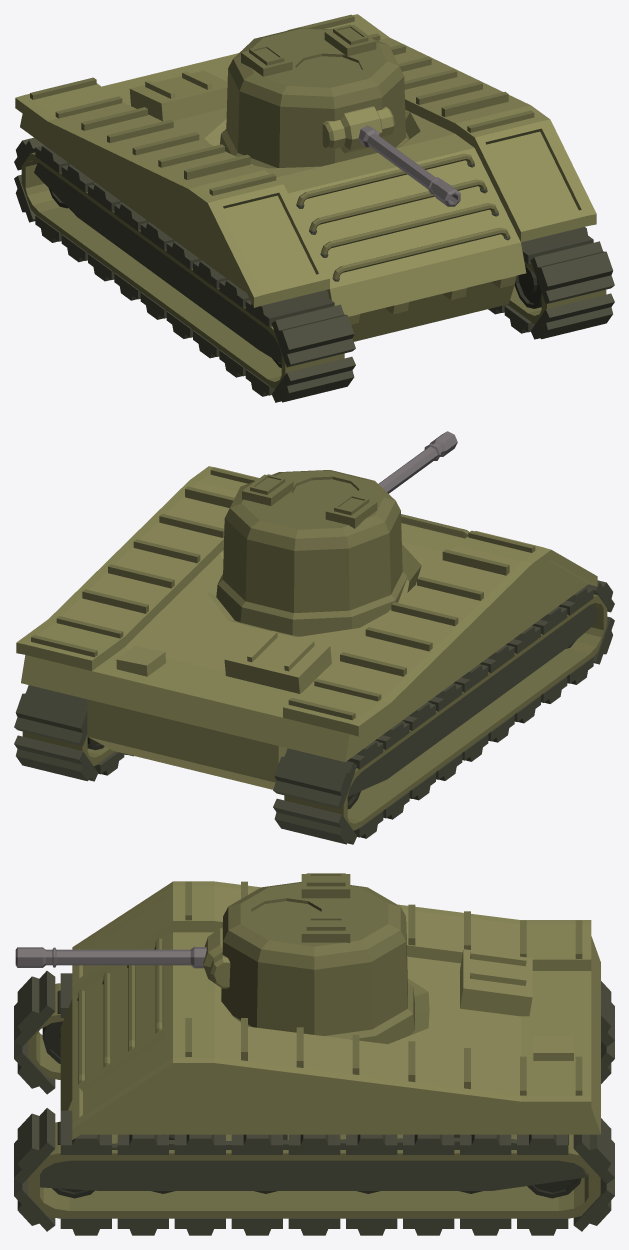
File: Tank_Toon.fbx
3 views of the same model, one above another, from view 1: azimuth 30°, elevation 25°; view 2: azimuth 150°, elevation 25°; view 3: azimuth 270°, elevation 25° (orthographic). The views are drawn at different scales.
Parts seen in each view (by area): view 1: Tank_body, Tank_Turret, TrackMesh.R, TrackMesh.L, Tank_Gun; view 2: Tank_body, Tank_Turret, TrackMesh.R, TrackMesh.L, Tank_Gun; view 3: Tank_body, Tank_Turret, TrackMesh.L, TrackMesh.R, Tank_Gun.
Part boxes in pixels (x1,y1,x2,y2): Tank_body: [15, 14, 606, 388]; Tank_Turret: [220, 24, 409, 168]; TrackMesh.R: [14, 137, 355, 402]; TrackMesh.L: [488, 227, 614, 339]; Tank_Gun: [358, 125, 460, 206]; Tank_body: [16, 466, 607, 830]; Tank_Turret: [216, 470, 406, 636]; TrackMesh.R: [273, 580, 614, 844]; TrackMesh.L: [14, 685, 133, 781]; Tank_Gun: [378, 431, 457, 493]; Tank_body: [28, 881, 600, 1218]; Tank_Turret: [203, 873, 414, 1044]; TrackMesh.L: [14, 1108, 614, 1235]; TrackMesh.R: [14, 971, 614, 1094]; Tank_Gun: [15, 946, 206, 968].
Size of the model in its own units: 5.27 by 3.38 by 7.37.
